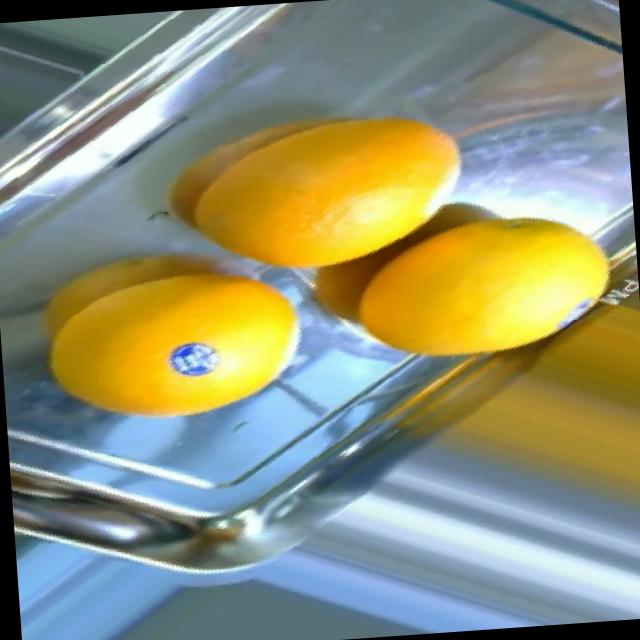Fruit: (3, 226, 215, 444), (130, 100, 336, 278)
